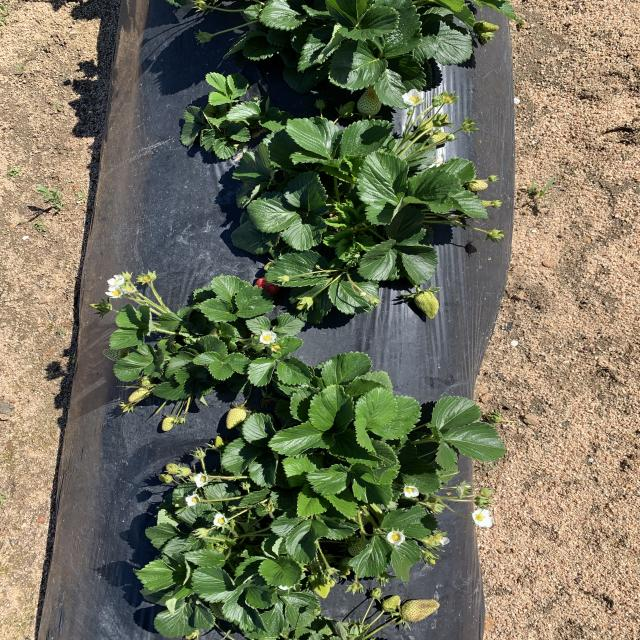unripe: (244, 275, 284, 307)
